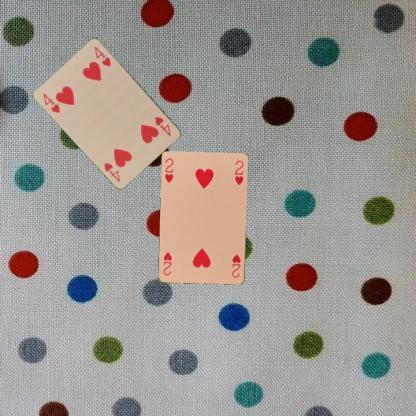2h: (162, 156, 174, 184), (230, 251, 242, 278)
4h: (40, 90, 62, 115), (152, 113, 172, 138)
